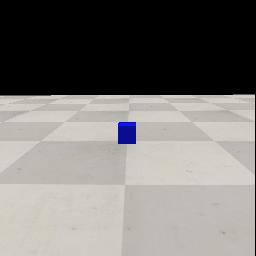box: (118, 122, 136, 144)
